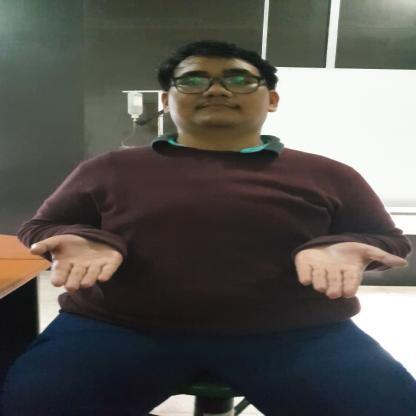Apa: (26, 231, 408, 299)
